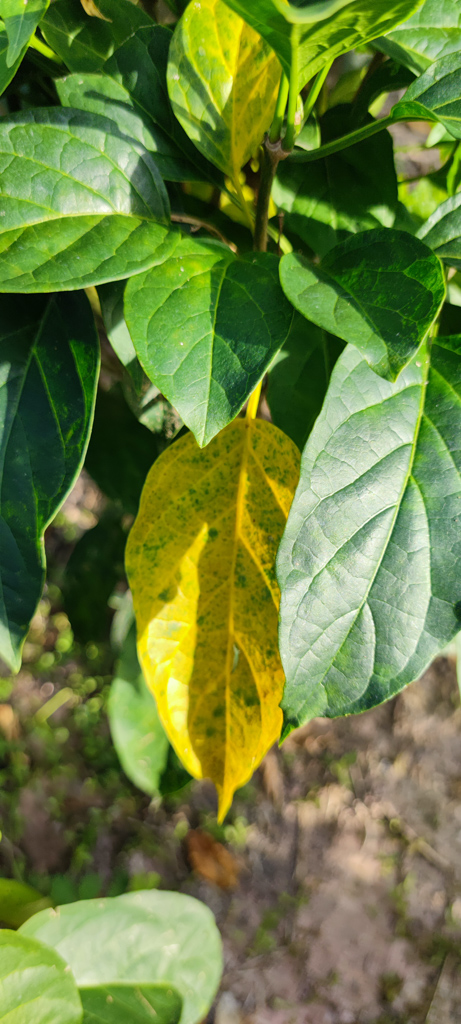Pepper yellow leaf: (122, 410, 323, 816), (166, 3, 277, 197)
